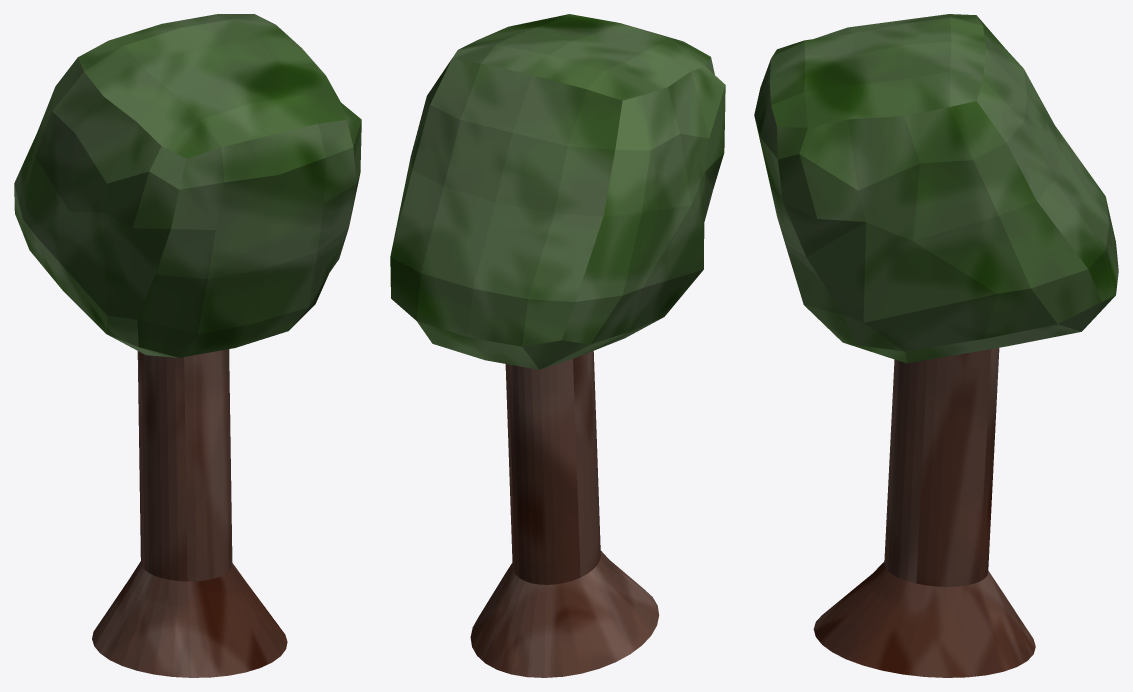
The model's file is tree.glb.
3 renders of one model, left to right at view 1: azimuth 30°, elevation 25°; view 2: azimuth 150°, elevation 25°; view 3: azimuth 270°, elevation 25°, orthographic. The views are drawn at different scales.
Parts seen in each view (by area): view 1: Cube, Cylinder; view 2: Cube, Cylinder; view 3: Cube, Cylinder.
Part boxes in pixels (x1=…): Cube: x1=14, y1=14, x2=361, y2=357; Cylinder: x1=92, y1=349, x2=287, y2=677; Cube: x1=390, y1=14, x2=725, y2=369; Cylinder: x1=470, y1=351, x2=659, y2=677; Cube: x1=754, y1=14, x2=1118, y2=363; Cylinder: x1=813, y1=348, x2=1035, y2=677.
Bounding box in the file's own units: 2.92 × 6.64 × 3.62.
Materials: 2 (2 with a texture image).
